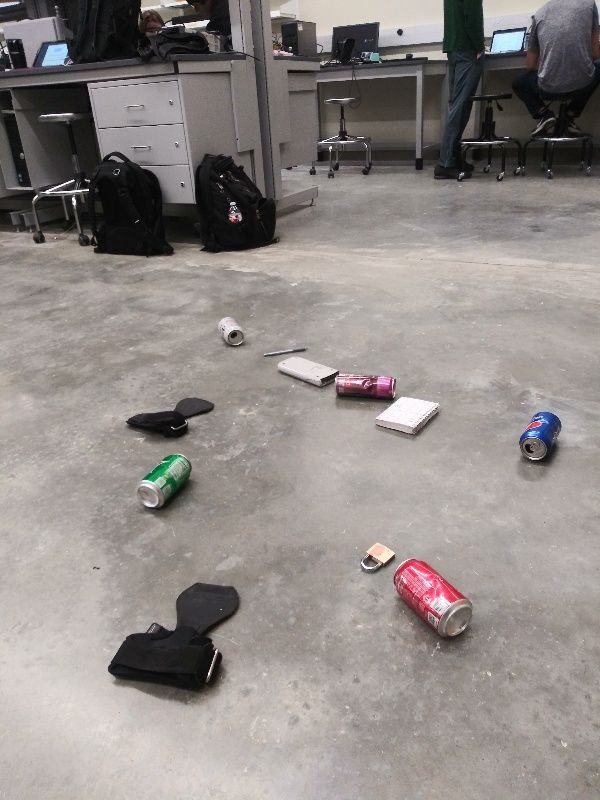can: (391, 555, 478, 642), (132, 448, 196, 513), (517, 408, 567, 468), (330, 368, 402, 405), (211, 311, 248, 349)
